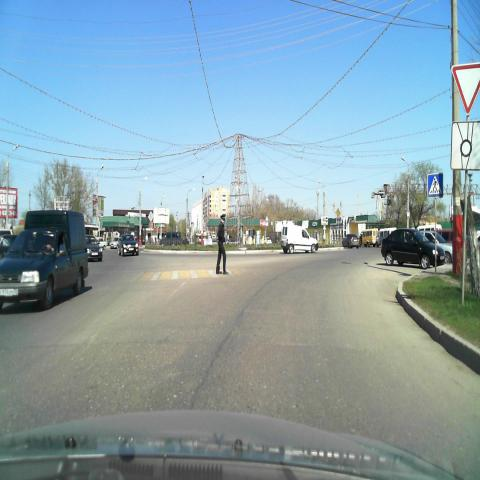8_13_1: (451, 122, 480, 172)
